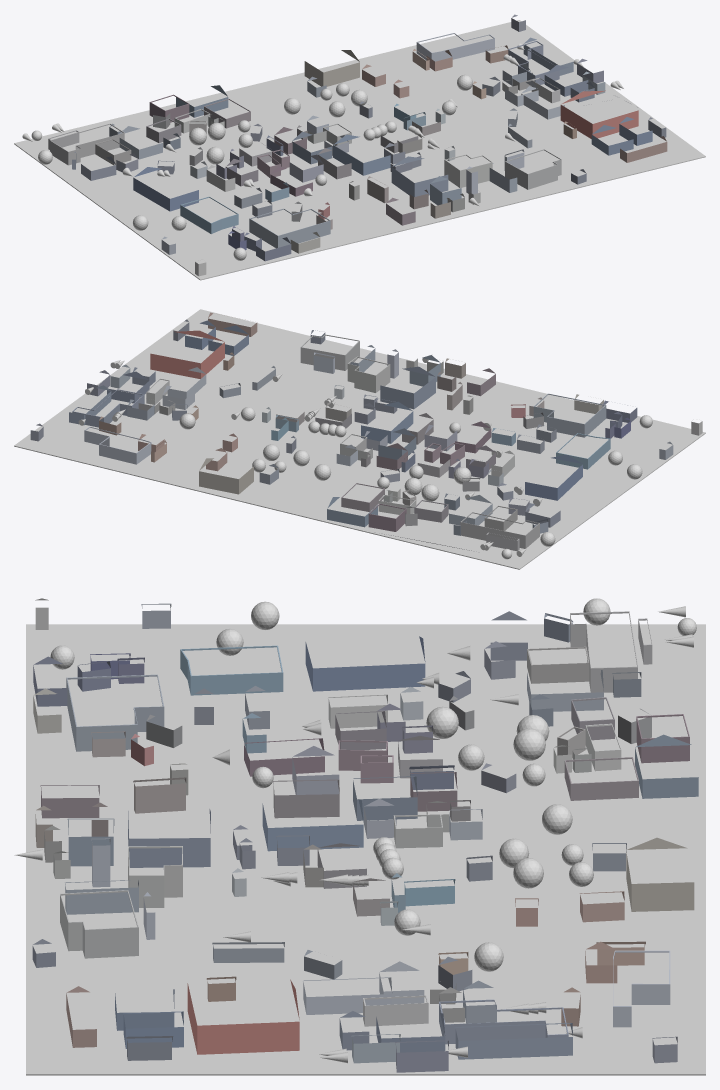
3 renders of one model, top to bottom at view 1: azimuth 30°, elevation 25°; view 2: azimuth 150°, elevation 25°; view 3: azimuth 270°, elevation 25°, orthographic. The views are drawn at different scales.
Parts seen in each view (by area): view 1: Ground_Base, BLD-003, BLD-002, BLD-006, BLD-010, BLD-009, BLD-001, BLD-004, BLD-007, BLD-005, BLD-019, BLD-008 (+17 smaller); view 2: Ground_Base, BLD-003, BLD-002, BLD-009, BLD-006, BLD-007, BLD-004, BLD-019, BLD-001, BLD-010, BLD-005, BLD-015 (+15 smaller); view 3: Ground_Base, BLD-003, BLD-001, BLD-010, BLD-015, BLD-004, BLD-007, BLD-016, BLD-008, BLD-002, BLD-005, BLD-051 (+47 smaller).
Boxes of the visible parts, x1,y1,x2,y2 form: Ground_Base: [14, 20, 705, 280]; BLD-003: [560, 90, 638, 138]; BLD-002: [249, 208, 330, 248]; BLD-006: [50, 123, 124, 165]; BLD-010: [505, 149, 561, 189]; BLD-009: [416, 33, 494, 61]; BLD-001: [133, 167, 198, 211]; BLD-004: [304, 50, 359, 86]; BLD-007: [391, 156, 448, 196]; BLD-005: [333, 134, 390, 175]; BLD-019: [444, 154, 492, 188]; BLD-008: [180, 196, 238, 233]; Ground_Base: [14, 309, 705, 569]; BLD-003: [150, 330, 224, 378]; BLD-002: [533, 393, 606, 437]; BLD-009: [84, 426, 151, 464]; BLD-006: [460, 512, 539, 548]; BLD-007: [380, 366, 435, 409]; BLD-004: [199, 458, 253, 494]; BLD-019: [347, 356, 390, 392]; BLD-001: [525, 454, 582, 500]; BLD-010: [300, 334, 359, 370]; BLD-005: [361, 401, 413, 443]; BLD-015: [72, 389, 144, 427]; Ground_Base: [26, 624, 705, 1075]; BLD-003: [187, 979, 299, 1054]; BLD-001: [305, 636, 425, 691]; BLD-010: [60, 890, 138, 958]; BLD-015: [439, 999, 568, 1044]; BLD-004: [626, 837, 694, 911]; BLD-007: [128, 809, 210, 867]; BLD-016: [455, 1023, 572, 1059]; BLD-008: [180, 645, 283, 695]; BLD-002: [66, 674, 164, 751]; BLD-005: [262, 799, 363, 851]; BLD-051: [65, 879, 138, 914].
Size of the model in its own units: 245 by 11.97 by 157.
